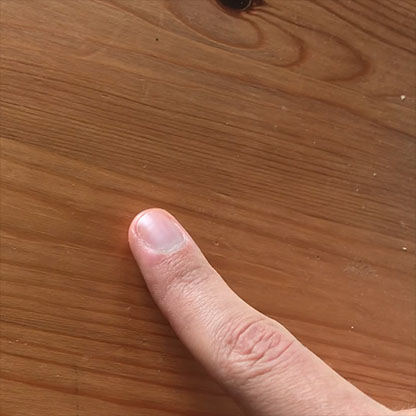fingertip: (115, 201, 204, 270)
